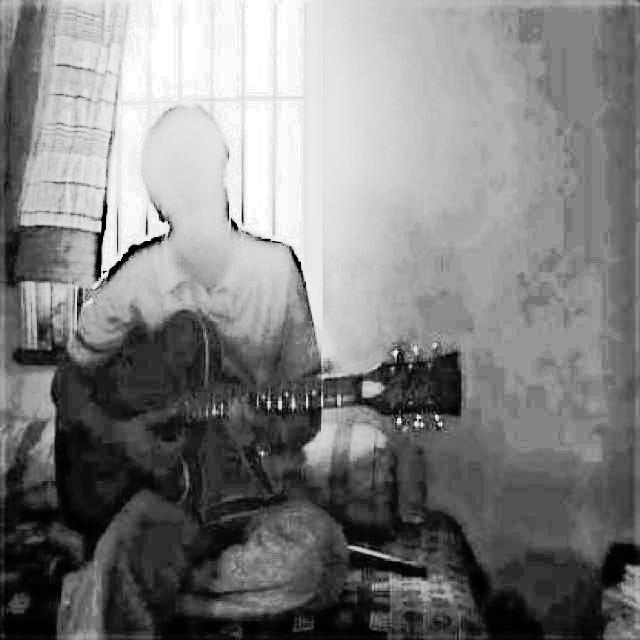Person: (54, 97, 353, 640)
